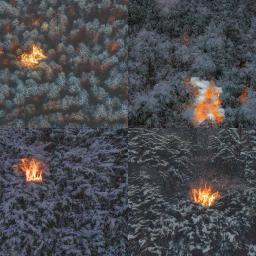Small fire: (181, 76, 233, 124), (192, 186, 227, 209), (21, 160, 50, 183), (20, 42, 49, 63)
